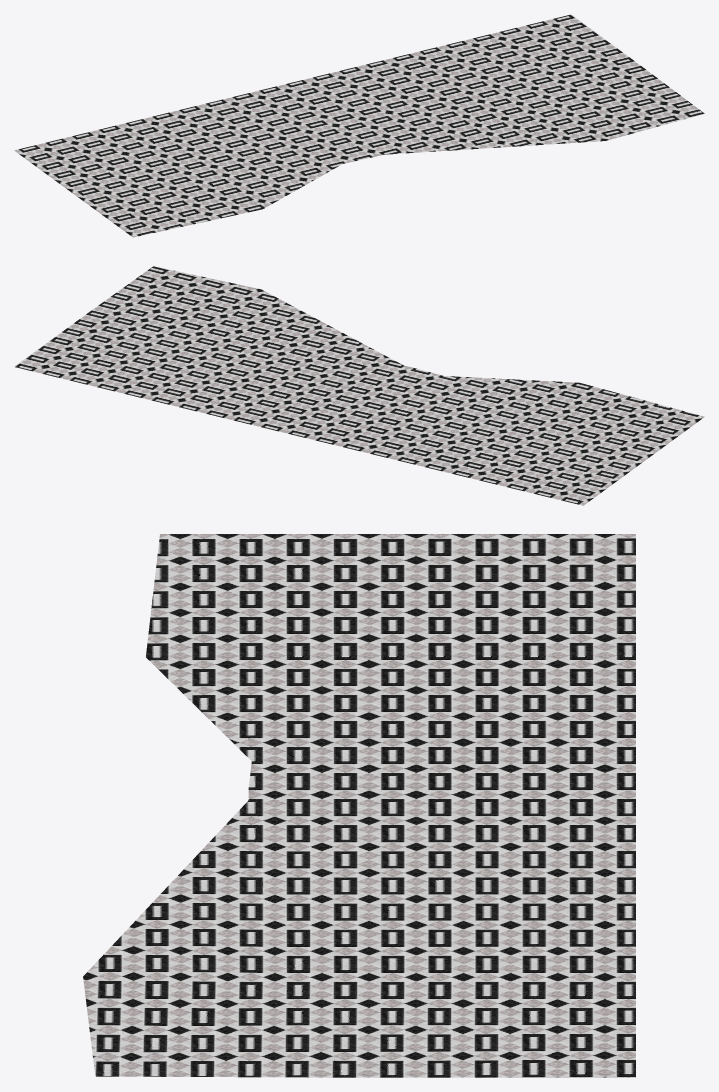
Rendered from floor.obj.
The picture shows the model from 3 angles, top to bottom: view 1: azimuth 30°, elevation 25°; view 2: azimuth 150°, elevation 25°; view 3: azimuth 270°, elevation 25°; orthographic projection. The views are drawn at different scales.
Size of the model in its own units: 80.42 by 0.0046 by 34.55.
1 material, 1 textured.
